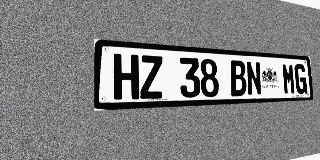3: (179, 57, 200, 98)
8: (200, 58, 219, 97)
B: (230, 60, 247, 96)
G: (294, 64, 307, 94)
H: (113, 53, 139, 100)
M: (282, 63, 296, 95)
N: (246, 61, 262, 96)
Z: (140, 55, 163, 99)
